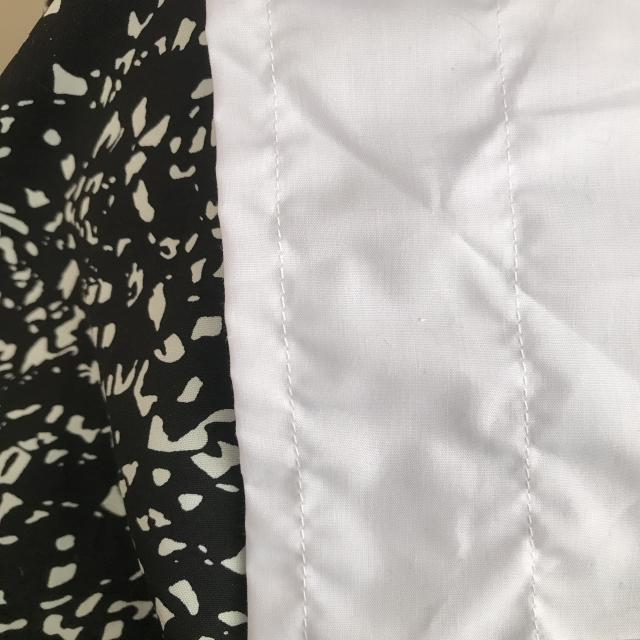good: (271, 319, 305, 472), (292, 505, 321, 607)
